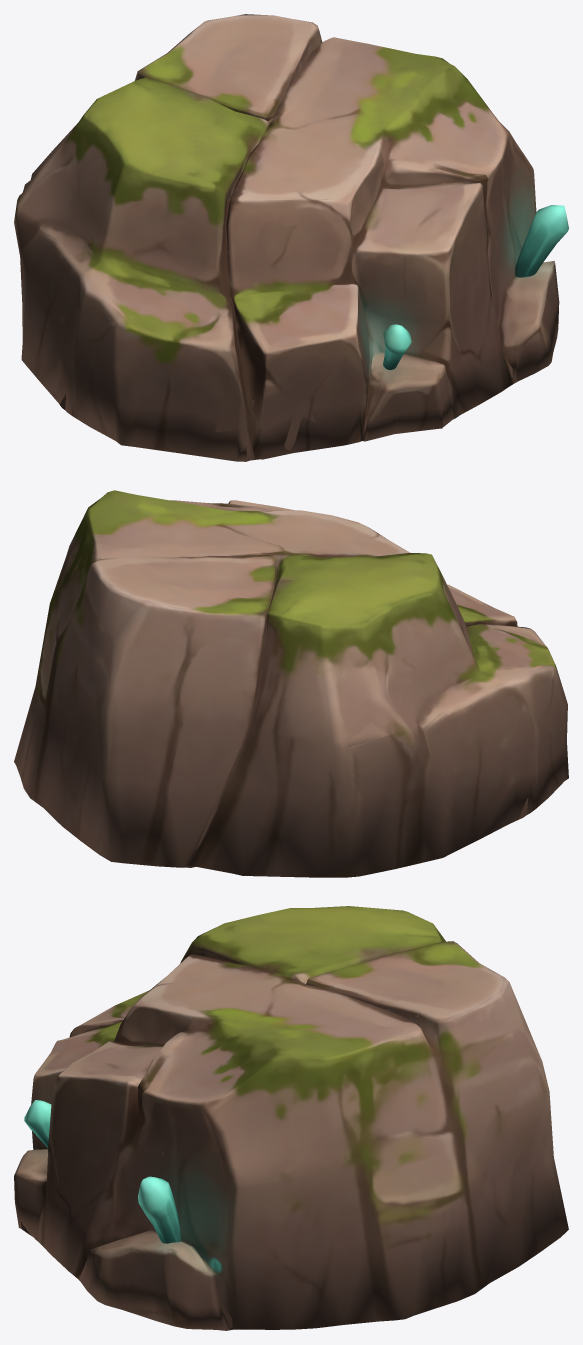
The model's file is boulder_raw.glb.
3 views of the same model, one above another, from view 1: azimuth 30°, elevation 25°; view 2: azimuth 150°, elevation 25°; view 3: azimuth 270°, elevation 25° (orthographic). The views are drawn at different scales.
Visible parts, largest first — view 1: geometry_0; view 2: geometry_0; view 3: geometry_0.
Part boxes in pixels (x1=…): geometry_0: x1=14, y1=14, x2=568, y2=461; geometry_0: x1=14, y1=490, x2=568, y2=877; geometry_0: x1=14, y1=906, x2=568, y2=1330.
Bounding box in the file's own units: 1 × 0.5004 × 0.9985.
1 material, 1 textured.
